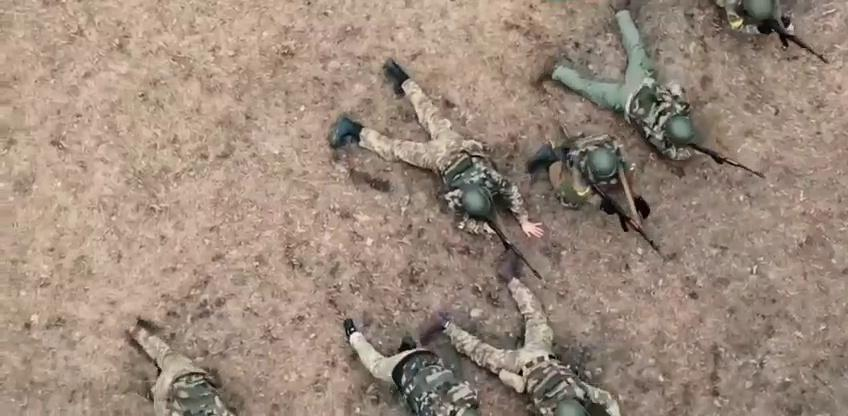person: (329, 58, 548, 282), (541, 0, 769, 179), (455, 255, 622, 416), (524, 132, 664, 256), (338, 297, 479, 416), (123, 317, 238, 416), (718, 0, 820, 48)
